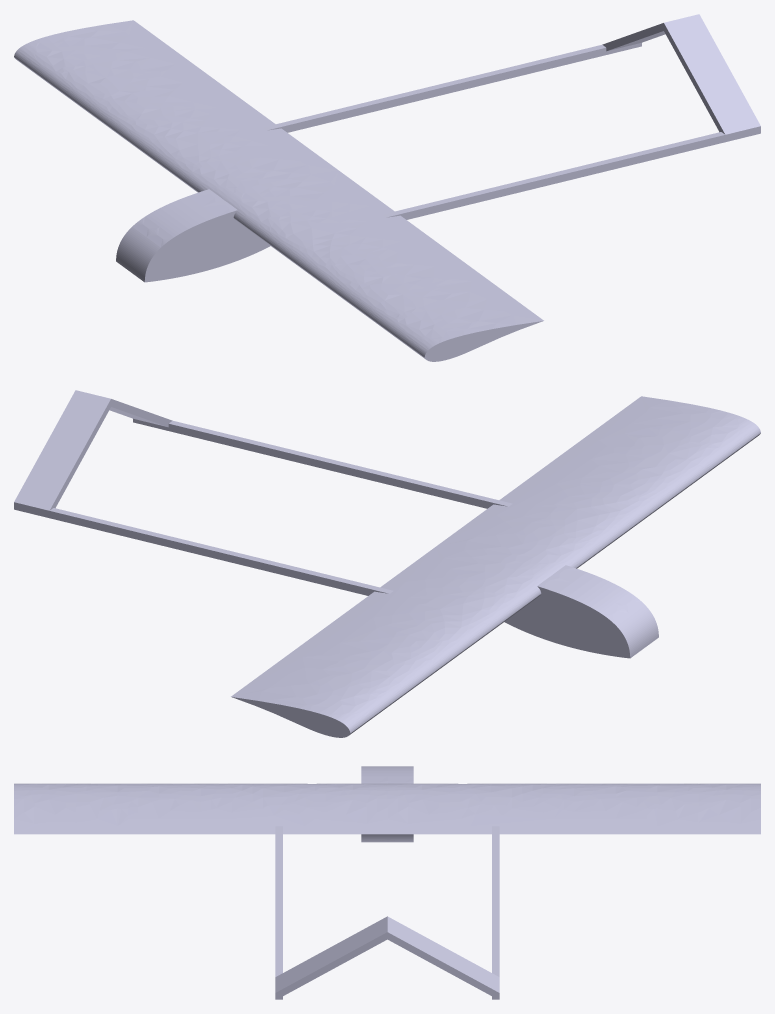
Rendered from alexis.dae.
The picture shows the model from 3 angles, top to bottom: view 1: azimuth 30°, elevation 25°; view 2: azimuth 150°, elevation 25°; view 3: azimuth 270°, elevation 25°; orthographic projection. The views are drawn at different scales.
Parts seen in each view (by area): view 1: node2, node3, node1, node0; view 2: node2, node3, node1, node0; view 3: node2, node0, node1, node3.
Boxes of the visible parts, x1,y1,x2,y2 form: node2: (14,20,543,361); node3: (116,189,270,282); node1: (262,42,760,219); node0: (602,14,760,134); node2: (231,396,760,737); node3: (504,565,658,658); node1: (14,418,512,595); node0: (14,390,172,510); node2: (14,783,760,834); node0: (275,916,499,995); node1: (275,826,499,999); node3: (361,766,413,842).
Bounding box in the file's own units: 1.6 × 2 × 0.3296.
